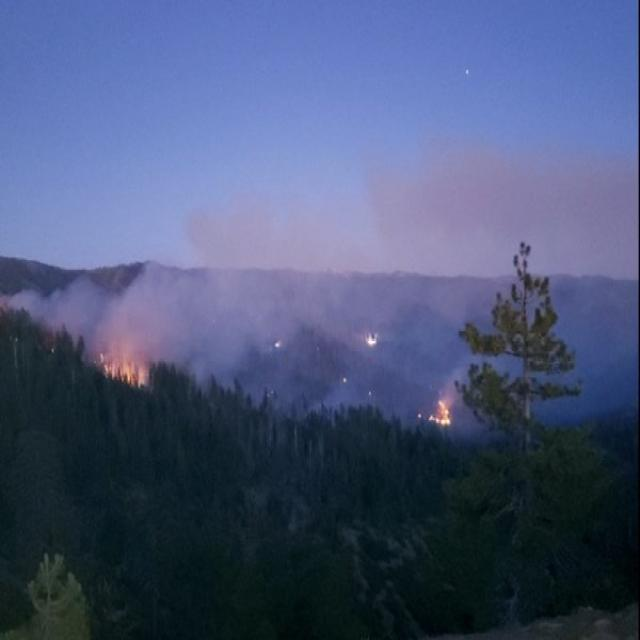Fire: (98, 350, 152, 392), (427, 394, 457, 429)
Smoke: (332, 116, 626, 326), (31, 187, 306, 352)
